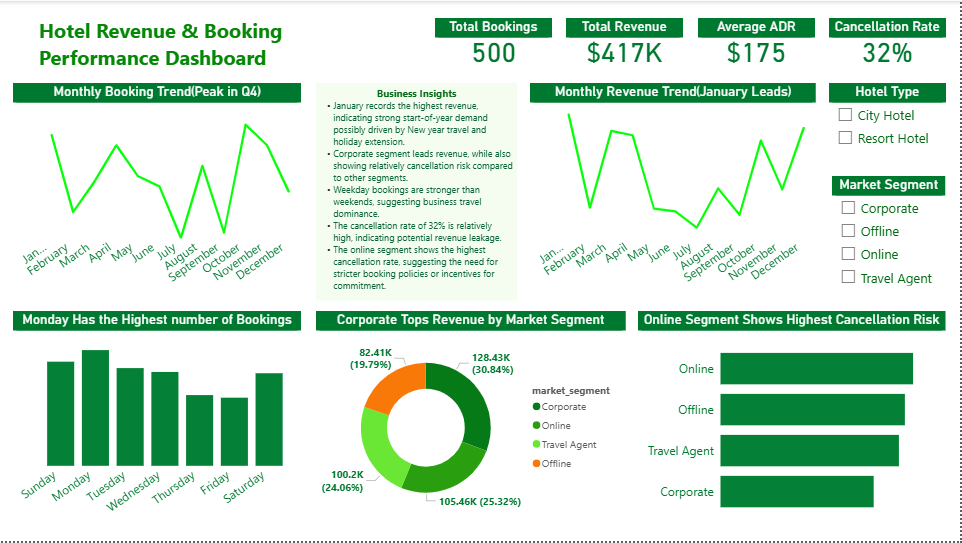

The page's visual inventory and layout, read from the dashboard file:
{"tool":"powerbi","page":{"name":"Page 1","canvas":[1280,720],"ordinal":0},"visuals":[{"type":"card","title":"Total Bookings","fields":{"Values":["clean_hospitality.Total Booking"]},"box":[579.4,22,155.5,64.7],"z":0},{"type":"card","title":"Total Revenue","fields":{"Values":["clean_hospitality.Total Revenue"]},"box":[754.2,22,155.5,64.7],"z":1000},{"type":"card","title":"Average ADR","fields":{"Values":["clean_hospitality.Average ADR"]},"box":[930.4,22,155.5,64.7],"z":2000},{"type":"lineChart","title":"Monthly Booking Trend(Peak in Q4)","fields":{"Category":["clean_hospitality.month_name"],"Y":["clean_hospitality.Total Booking"]},"box":[17.9,108.7,384,290.4],"z":3000},{"type":"lineChart","title":"Monthly Revenue Trend(January Leads)","fields":{"Category":["clean_hospitality.month_name"],"Y":["clean_hospitality.Total Revenue"]},"box":[706.1,108.7,381.2,290.4],"z":4000},{"type":"donutChart","title":"Corporate Tops Revenue by Market Segment","fields":{"Y":["clean_hospitality.Total Revenue"],"Category":["clean_hospitality.market_segment"]},"box":[421.2,412.9,412.9,290.4],"z":5000},{"type":"card","title":"Cancellation Rate","fields":{"Values":["clean_hospitality.Cancellation Rate"]},"box":[1105.2,22,155.5,64.7],"z":6000},{"type":"clusteredColumnChart","title":"Monday Has  the Highest number of Bookings","fields":{"Category":["clean_hospitality.day_name"],"Y":["clean_hospitality.Total Booking"]},"box":[17.9,412.9,384,290.4],"z":7000},{"type":"barChart","title":"Online Segment Shows Highest Cancellation Risk","fields":{"Category":["clean_hospitality.market_segment"],"Y":["clean_hospitality.Cancellation Rate"]},"box":[850.6,412.9,410,290.4],"z":8000},{"type":"slicer","title":"Market Segment","fields":{"Values":["clean_hospitality.market_segment"]},"box":[1109.3,234,151.4,165.2],"z":9000},{"type":"textbox","box":[46.8,15.1,355.1,93.6],"z":10000},{"type":"textbox","box":[421.2,108.7,268.4,290.4],"z":11000},{"type":"slicer","title":"Hotel Type","fields":{"Values":["clean_hospitality.hotel_type"]},"box":[1105.2,108.7,155.5,111.5],"z":12000}]}

Visuals, with their boxes in screenshot pixels (x1, y1, x2, y2), scaled from the page's 1280x720 canvas onto the 962x543 screenshot:
"Total Bookings" card: Rect(435, 17, 552, 65)
"Total Revenue" card: Rect(567, 17, 684, 65)
"Average ADR" card: Rect(699, 17, 816, 65)
"Monthly Booking Trend(Peak in Q4)" lineChart: Rect(13, 82, 302, 301)
"Monthly Revenue Trend(January Leads)" lineChart: Rect(531, 82, 817, 301)
"Corporate Tops Revenue by Market Segment" donutChart: Rect(317, 311, 627, 530)
"Cancellation Rate" card: Rect(831, 17, 947, 65)
"Monday Has  the Highest number of Bookings" clusteredColumnChart: Rect(13, 311, 302, 530)
"Online Segment Shows Highest Cancellation Risk" barChart: Rect(639, 311, 947, 530)
"Market Segment" slicer: Rect(834, 176, 947, 301)
textbox: Rect(35, 11, 302, 82)
textbox: Rect(317, 82, 518, 301)
"Hotel Type" slicer: Rect(831, 82, 947, 166)
